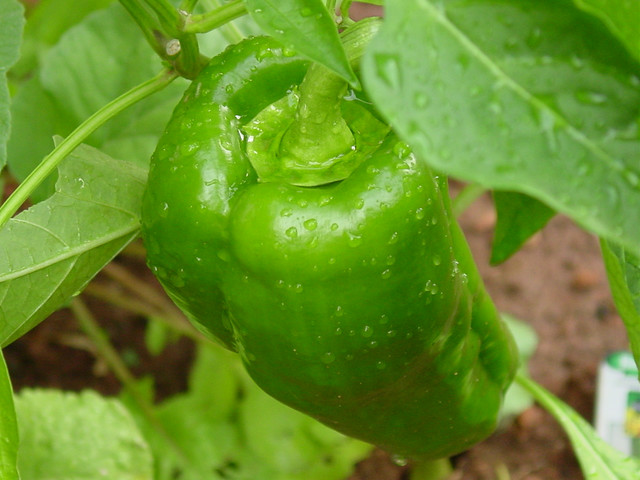capsicum: (140, 16, 517, 462)
